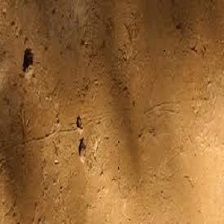clay_soil: (9, 15, 214, 203)
